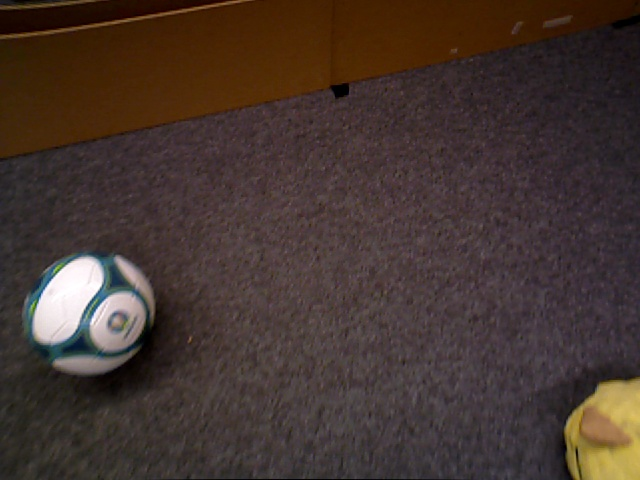grasp: (565, 379, 640, 478)
kick: (21, 252, 156, 376)
